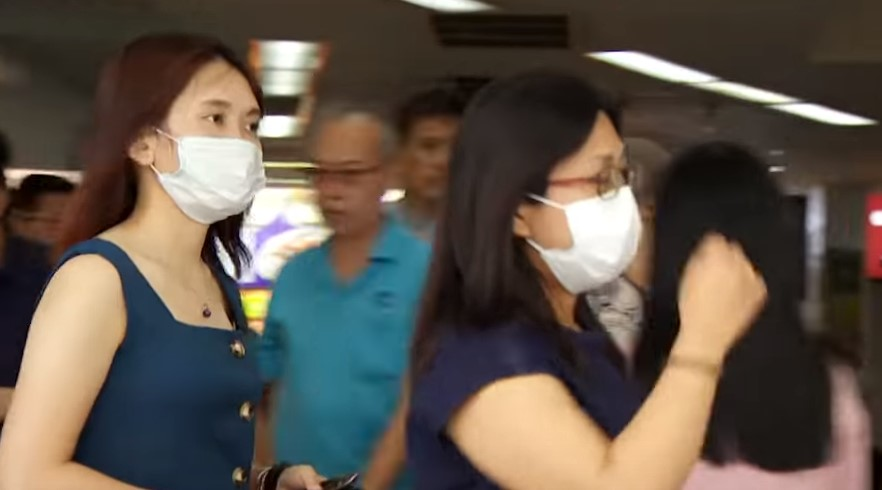face_no_mask: (304, 104, 390, 233), (396, 89, 454, 207)
face_with_mask: (483, 88, 646, 306), (111, 38, 271, 228)
